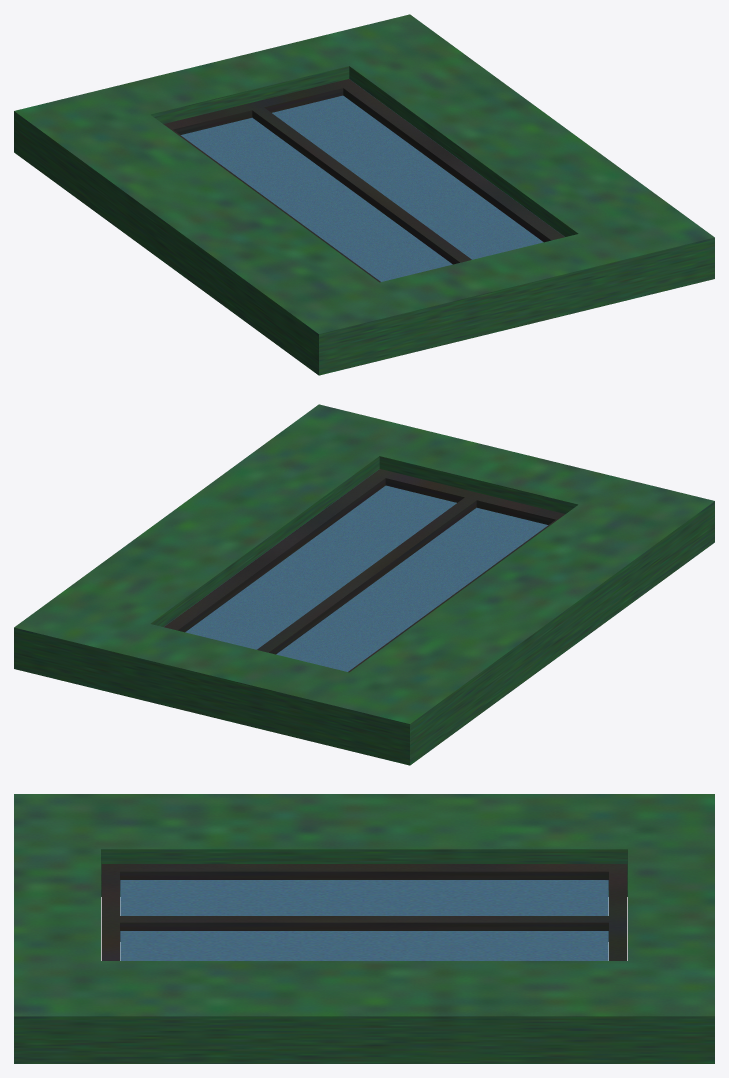
Rendered from wall_window.obj.
3 renders of one model, top to bottom at view 1: azimuth 30°, elevation 25°; view 2: azimuth 150°, elevation 25°; view 3: azimuth 270°, elevation 25°, orthographic. The views are drawn at different scales.
Parts seen in each view (by area): view 1: wall, window; view 2: wall, window; view 3: wall, window.
Part boxes in pixels (x1,y1,x2,y2): wall: (14, 14, 714, 375); window: (163, 79, 564, 282); wall: (14, 404, 714, 765); window: (164, 469, 565, 672); wall: (14, 794, 714, 1063); window: (101, 864, 627, 960).
Bounding box in the file's own units: 3 × 0.3 × 4.
